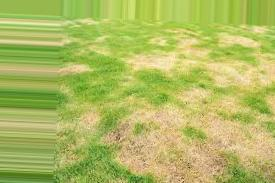patch: (139, 102, 222, 177), (224, 113, 272, 164), (127, 49, 214, 74), (71, 110, 129, 140), (219, 65, 264, 90), (222, 32, 248, 44)
